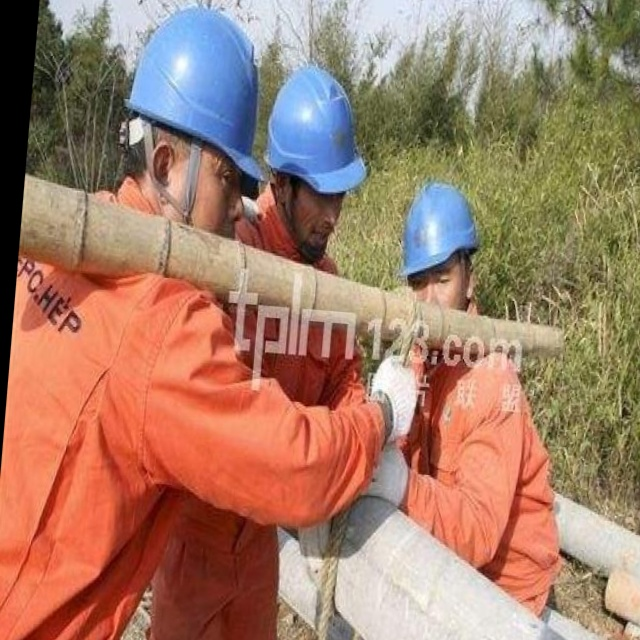Con_Casco: (258, 55, 375, 253), (400, 180, 482, 307)
